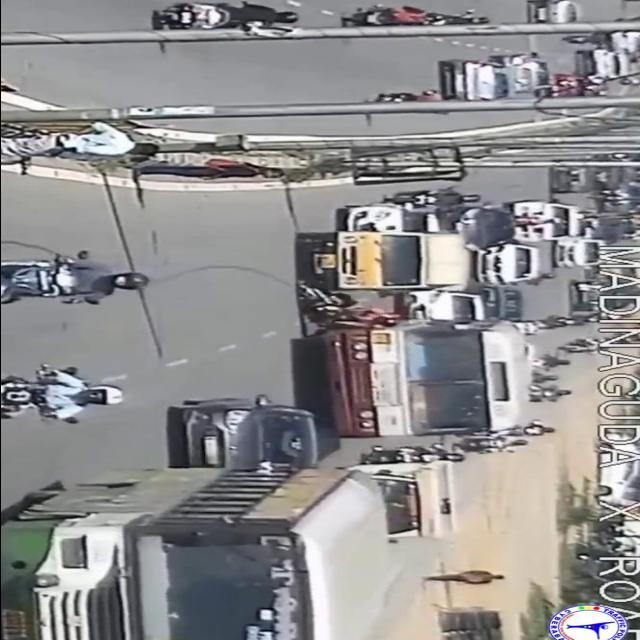accident: (287, 226, 541, 443)
non_accident: (0, 400, 476, 640), (427, 154, 635, 325), (429, 36, 640, 101)
